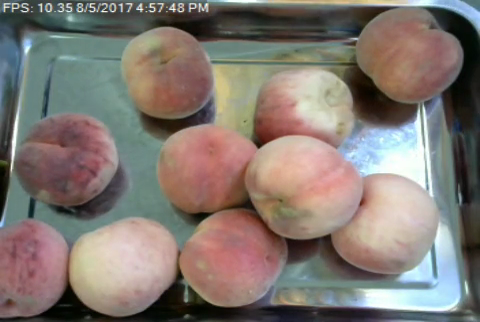Peach: (245, 136, 361, 239), (331, 174, 437, 274), (353, 8, 464, 103), (180, 208, 286, 307), (69, 218, 176, 315), (14, 112, 118, 206), (157, 125, 259, 213), (120, 26, 215, 120), (252, 69, 356, 149), (0, 219, 69, 317)
